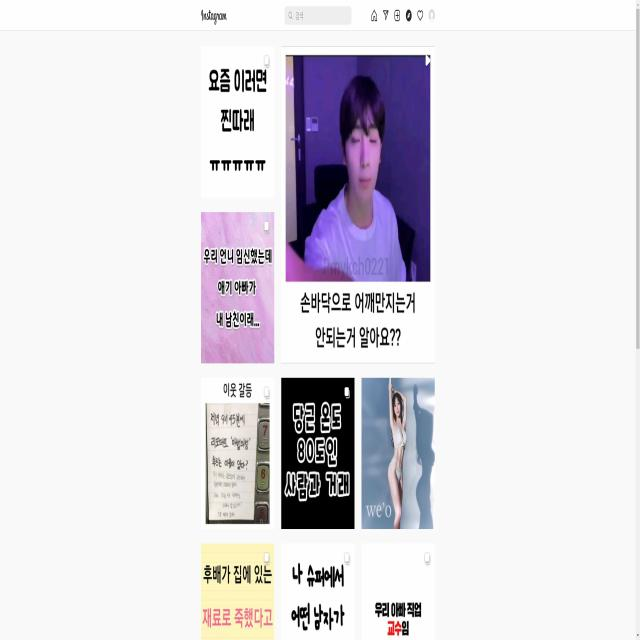menu-bar: (368, 2, 438, 25)
search: (282, 2, 352, 28)
